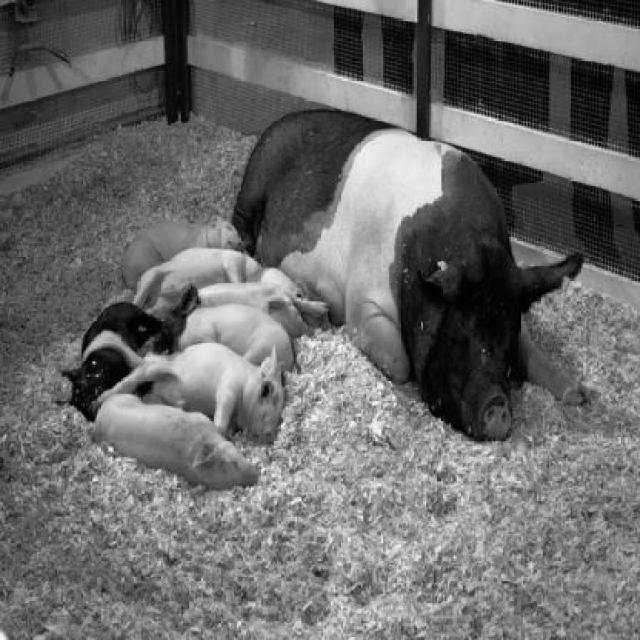Boar: (55, 111, 596, 500)
